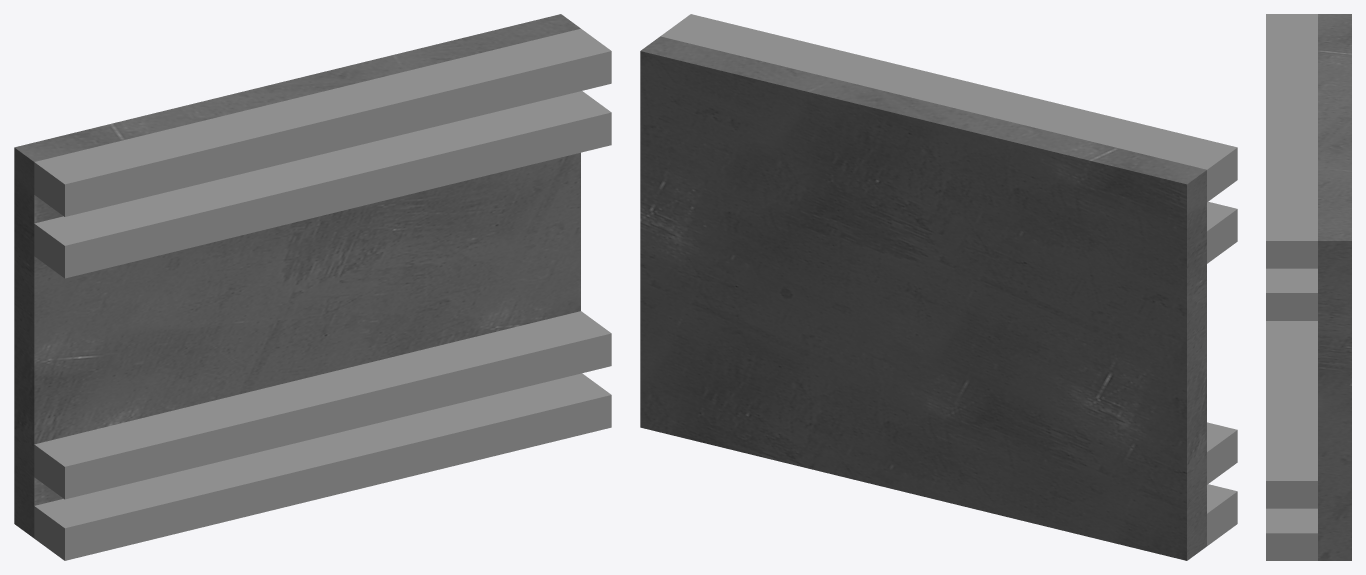
The model's file is railRegular.fbx.
The picture shows the model from 3 angles, left to right: view 1: azimuth 30°, elevation 25°; view 2: azimuth 150°, elevation 25°; view 3: azimuth 270°, elevation 25°; orthographic projection. The views are drawn at different scales.
Visible parts, largest first — view 1: rail; view 2: rail; view 3: rail.
Part boxes in pixels (x1,y1,x2,y2): rail: (14, 14, 611, 560); rail: (640, 14, 1237, 560); rail: (1266, 14, 1351, 560).
Size of the model in its own units: 135 by 88.7 by 21.59.
